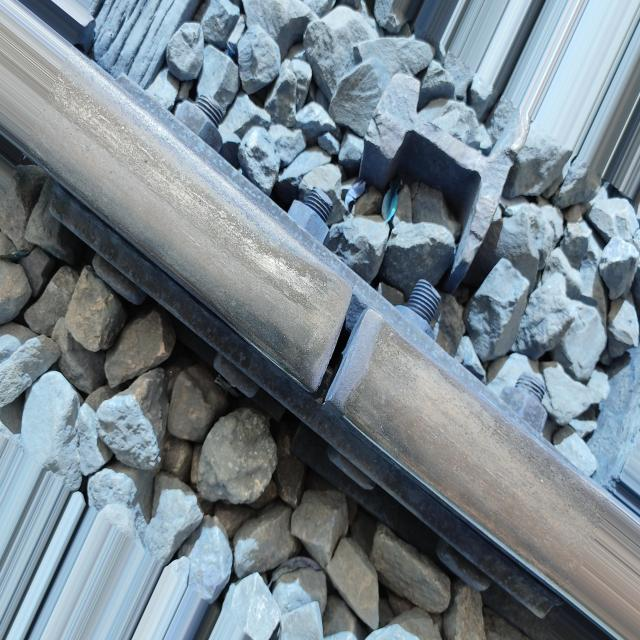crack: (314, 265, 378, 424)
